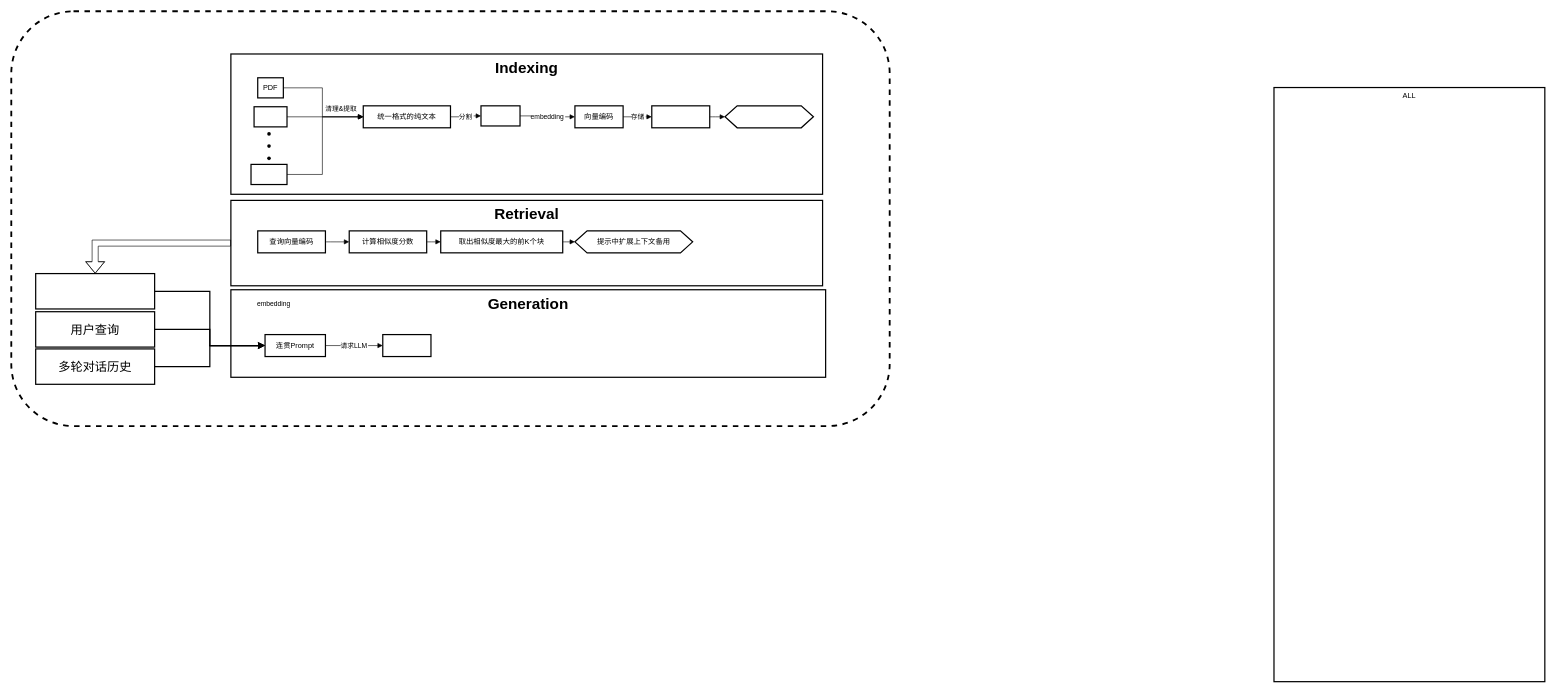
This 1556x693 diagram has some shape labels left out. Here are the shapes that lost their labels. From the top down, the centre of each, then its label:
point 270,116: HTML
point 500,115: chunks
point 680,116: 向量数据库
point 769,116: 相似性搜索备用
point 268,174: WORD
point 95,291: 提示扩展
point 406,345: 响应回答
